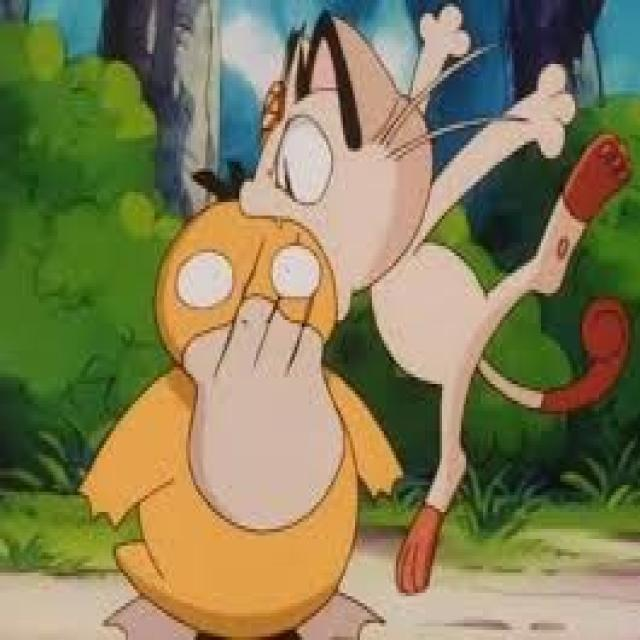Meowth: (251, 16, 492, 376)
Psyduck: (138, 189, 359, 640)
